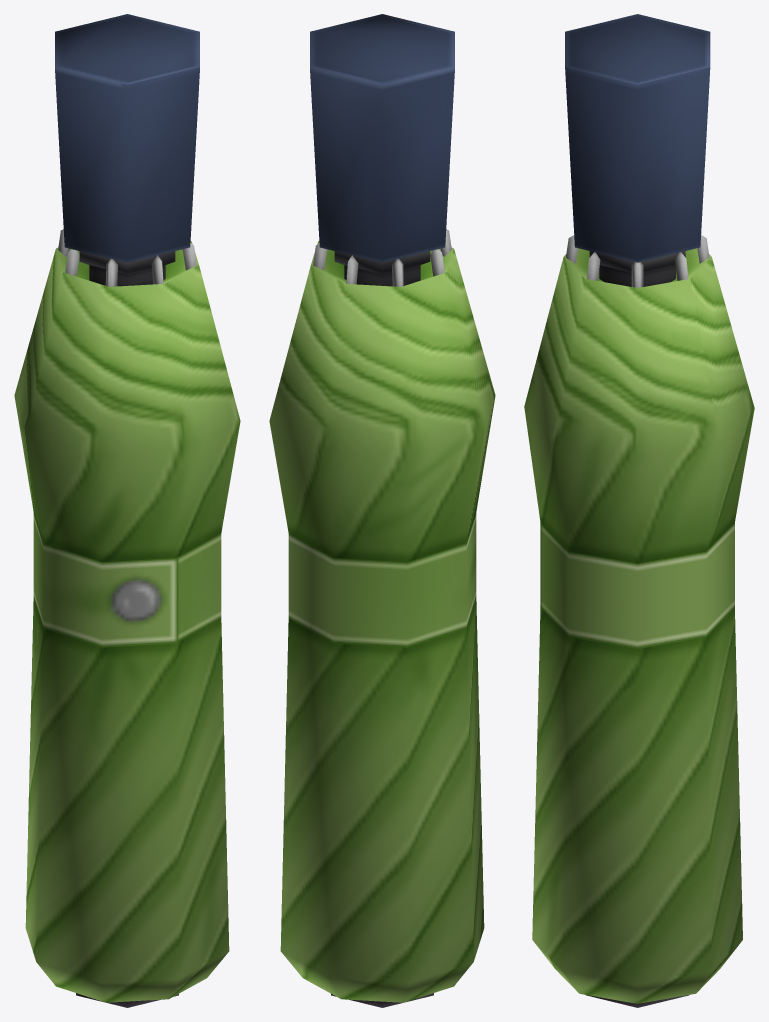
The model's file is set_foldingumbrella_06.fbx.
3 renders of one model, left to right at view 1: azimuth 30°, elevation 25°; view 2: azimuth 150°, elevation 25°; view 3: azimuth 270°, elevation 25°, orthographic.
Parts seen in each view (by area): view 1: foldingumbrella_06, handle_06; view 2: foldingumbrella_06, handle_06; view 3: foldingumbrella_06, handle_06.
Boxes of the visible parts, x1,y1,x2,y2 form: foldingumbrella_06: (14,229,240,1007); handle_06: (55,14,199,262); foldingumbrella_06: (269,229,495,1007); handle_06: (310,14,454,262); foldingumbrella_06: (524,235,754,1007); handle_06: (565,14,710,262).
Bounding box in the file's own units: 5.4 × 23.75 × 5.31.
